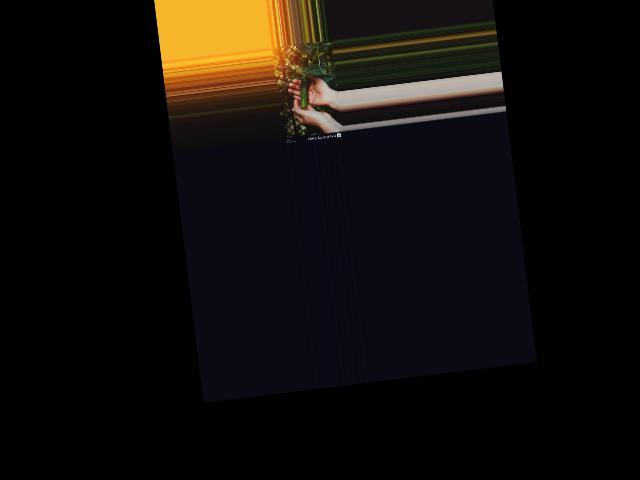cucumber: (297, 77, 312, 108)
